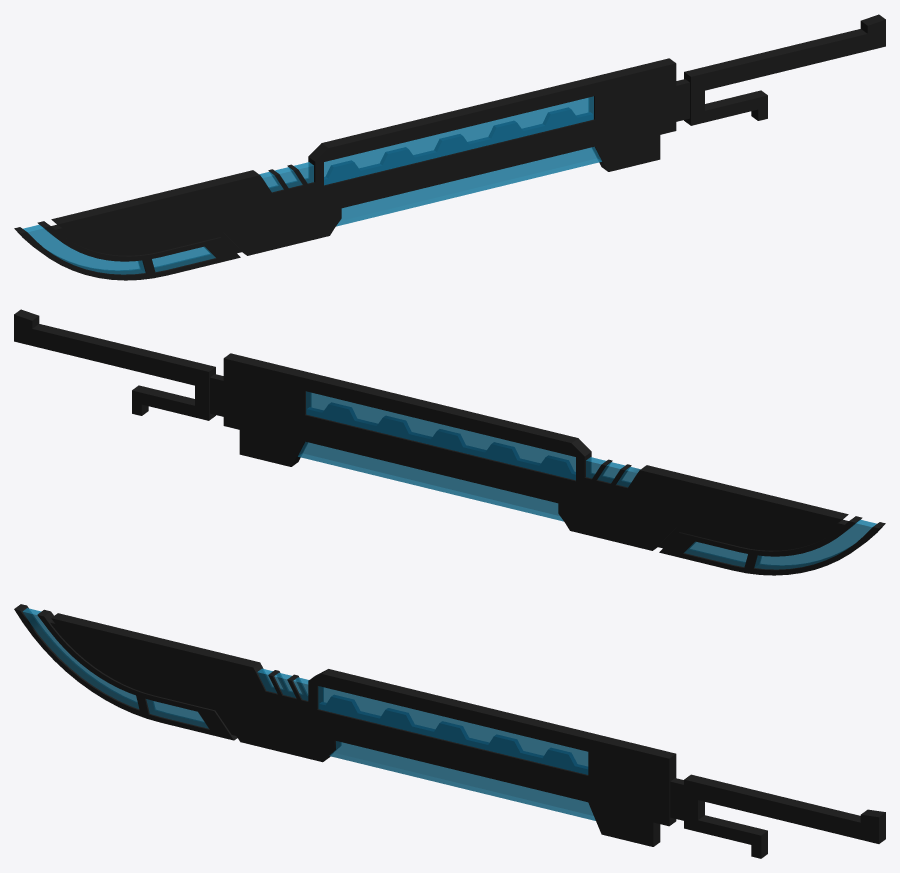
The model's file is Espada grande.fbx.
3 renders of one model, top to bottom at view 1: azimuth 30°, elevation 25°; view 2: azimuth 150°, elevation 25°; view 3: azimuth 330°, elevation 25°, orthographic.
Parts seen in each view (by area): view 1: Group1; view 2: Group1; view 3: Group1.
Boxes of the visible parts, x1,y1,x2,y2 form: Group1: (14,14,885,280); Group1: (14,309,885,575); Group1: (14,604,885,858).
Size of the model in its own units: 2608 by 266 by 36.29.
